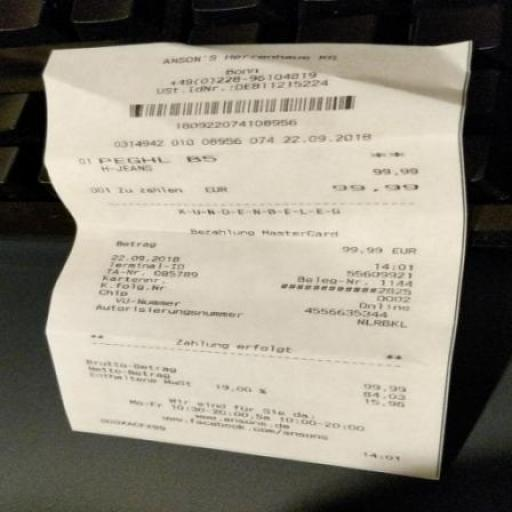paper: (12, 7, 511, 512)
